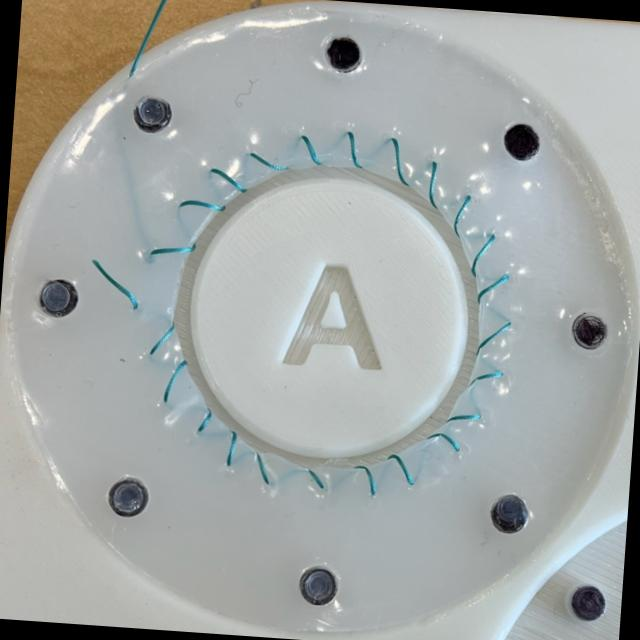suture: (92, 258, 138, 310), (476, 322, 510, 355), (471, 234, 495, 277), (163, 360, 186, 402), (210, 167, 247, 193), (477, 274, 509, 303), (391, 137, 409, 185), (387, 454, 413, 485), (249, 151, 287, 170), (149, 325, 173, 355), (454, 195, 471, 237), (353, 465, 375, 495), (425, 433, 460, 451), (301, 135, 322, 165), (347, 131, 362, 168), (149, 243, 196, 254), (429, 160, 438, 209), (469, 373, 502, 386), (180, 201, 226, 210), (226, 431, 236, 466), (257, 453, 268, 483), (197, 409, 211, 432), (446, 414, 481, 422), (309, 470, 323, 489)
